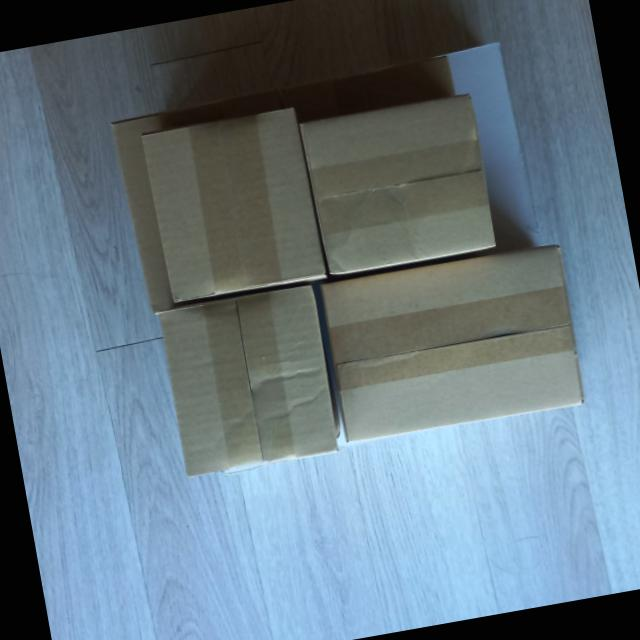box: (310, 233, 594, 451), (296, 82, 504, 281), (133, 100, 331, 307), (151, 276, 348, 481)
